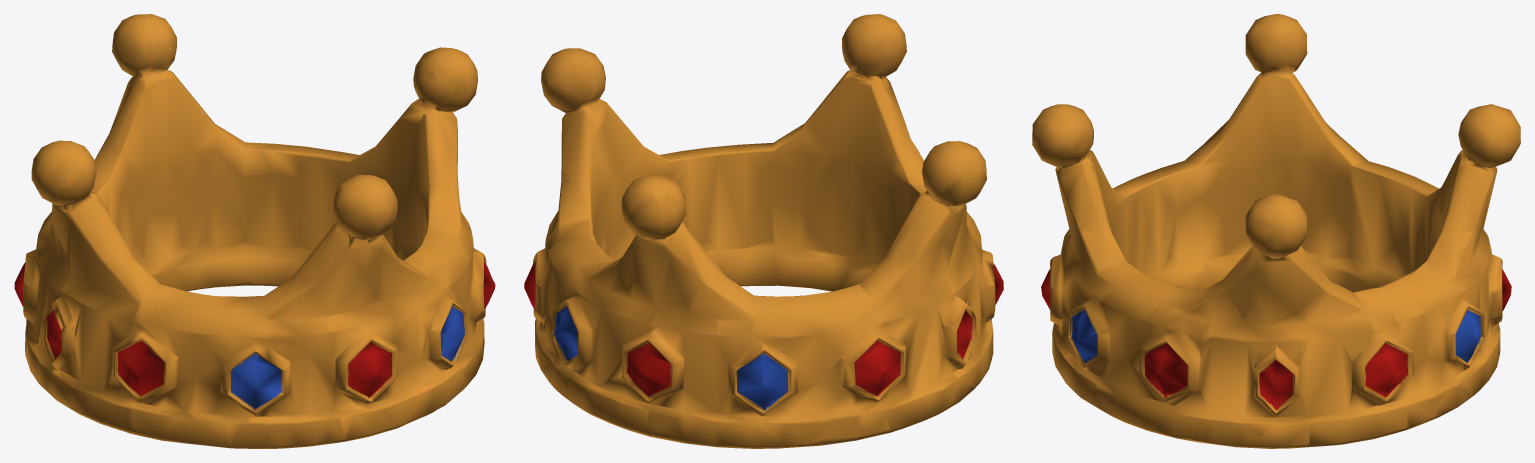
The model's file is crown.glb.
The picture shows the model from 3 angles, left to right: view 1: azimuth 30°, elevation 25°; view 2: azimuth 150°, elevation 25°; view 3: azimuth 270°, elevation 25°; orthographic projection. The views are drawn at different scales.
Parts seen in each view (by area): view 1: Mesh_0; view 2: Mesh_0; view 3: Mesh_0.
Part boxes in pixels (<box>): Mesh_0: <box>14,14,495,448</box>; Mesh_0: <box>524,14,1003,448</box>; Mesh_0: <box>1032,14,1520,448</box>.
Size of the model in its own units: 0.5638 by 0.32 by 0.5637.
Materials: 1 (1 with a texture image).
